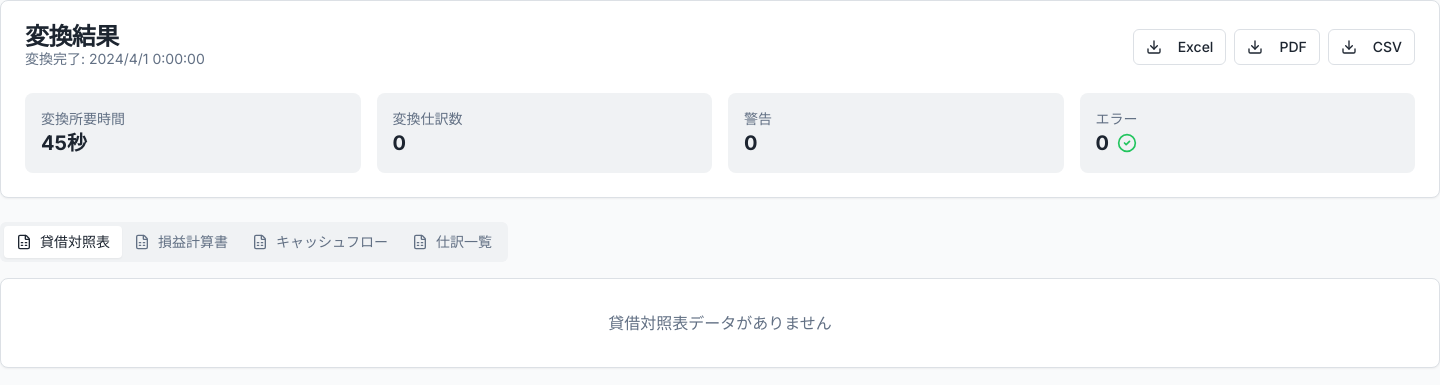
Test case: conversion-result-viewer — statement tabs › shows the empty-state message when cash-flow is absent
The width and height of the screenshot is (1440, 385).
Press the mouse on the tab "キャッシュフロー": point(320, 242) [240, 226, 400, 258]
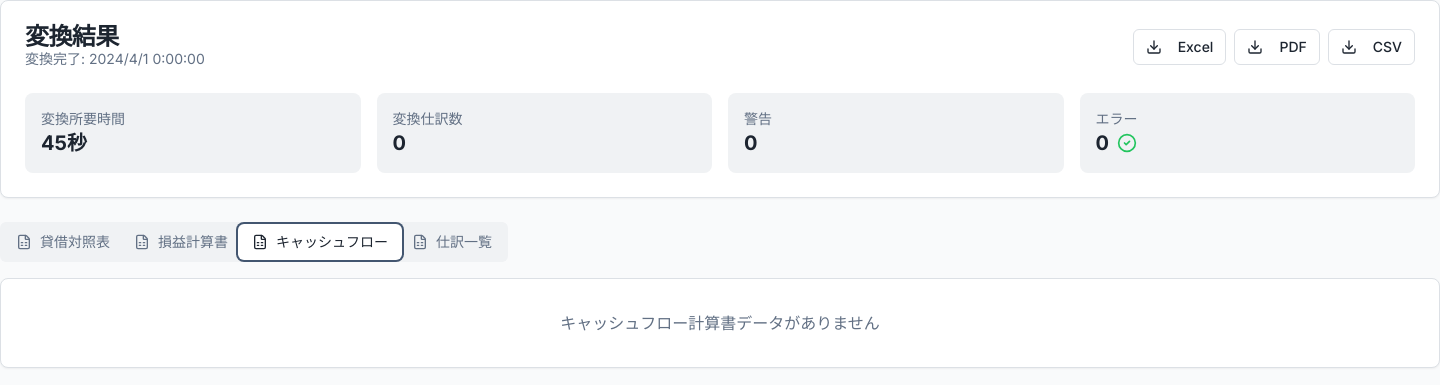
Expected: the text "キャッシュフロー計算書データがありません" is shown, [560, 313, 880, 333]
